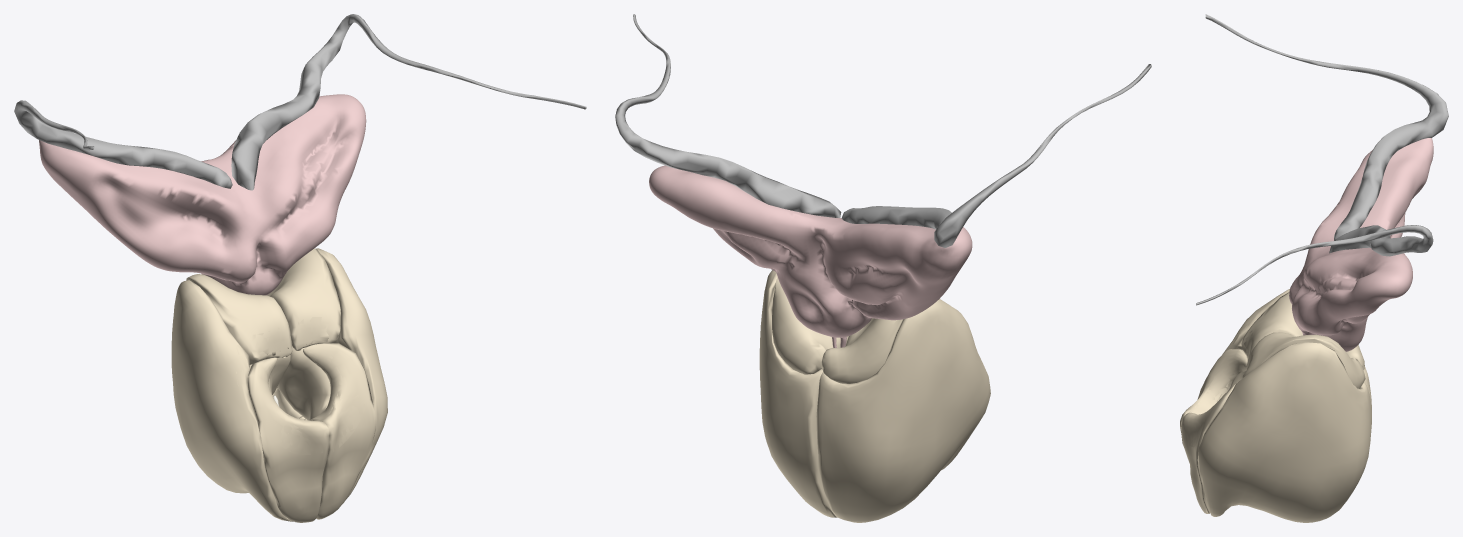
The model's file is vh_m_prostate-100.glb.
3 renders of one model, left to right at view 1: azimuth 30°, elevation 25°; view 2: azimuth 150°, elevation 25°; view 3: azimuth 270°, elevation 25°, orthographic. The views are drawn at different scales.
Parts seen in each view (by area): view 1: VH_M_seminal_vesicle, VH_M_peripheral_zone_of_prostate_R, VH_M_anterior_fibromuscular_stroma_R, VH_M_anterior_fibromuscular_stroma_L, VH_M_vas_deferens_R, VH_M_vas_deferens_L, VH_M_central_zone_of_prostate_L, VH_M_peripheral_zone_of_prostate_L, VH_M_central_zone_of_prostate_R, VH_M_base_of_prostate, VH_M_transition_zone__of_prostate_L; view 2: VH_M_peripheral_zone_of_prostate_R, VH_M_seminal_vesicle, VH_M_peripheral_zone_of_prostate_L, VH_M_vas_deferens_R, VH_M_vas_deferens_L, VH_M_central_zone_of_prostate_R, VH_M_central_zone_of_prostate_L; view 3: VH_M_peripheral_zone_of_prostate_L, VH_M_seminal_vesicle, VH_M_vas_deferens_L, VH_M_vas_deferens_R, VH_M_central_zone_of_prostate_L, VH_M_central_zone_of_prostate_R, VH_M_anterior_fibromuscular_stroma_L, VH_M_anterior_fibromuscular_stroma_R, VH_M_base_of_prostate, VH_M_peripheral_zone_of_prostate_R.
Boxes of the visible parts, x1,y1,x2,y2 form: VH_M_seminal_vesicle: (39,94,366,295); VH_M_peripheral_zone_of_prostate_R: (171,280,293,521); VH_M_anterior_fibromuscular_stroma_R: (248,357,329,522); VH_M_anterior_fibromuscular_stroma_L: (303,343,375,519); VH_M_vas_deferens_R: (231,14,586,190); VH_M_vas_deferens_L: (14,100,232,188); VH_M_central_zone_of_prostate_L: (267,248,340,387); VH_M_peripheral_zone_of_prostate_L: (272,248,387,499); VH_M_central_zone_of_prostate_R: (186,274,292,364); VH_M_base_of_prostate: (236,317,367,454); VH_M_transition_zone__of_prostate_L: (277,346,330,420); VH_M_peripheral_zone_of_prostate_R: (816,299,990,522); VH_M_seminal_vesicle: (649,165,972,337); VH_M_peripheral_zone_of_prostate_L: (759,270,837,517); VH_M_vas_deferens_R: (615,14,841,217); VH_M_vas_deferens_L: (841,64,1151,247); VH_M_central_zone_of_prostate_R: (821,318,902,383); VH_M_central_zone_of_prostate_L: (772,277,848,374); VH_M_peripheral_zone_of_prostate_L: (1197,342,1371,522); VH_M_seminal_vesicle: (1289,138,1433,351); VH_M_vas_deferens_L: (1205,14,1448,240); VH_M_vas_deferens_R: (1196,225,1433,305); VH_M_central_zone_of_prostate_L: (1241,332,1365,388); VH_M_central_zone_of_prostate_R: (1241,292,1364,369); VH_M_anterior_fibromuscular_stroma_L: (1181,379,1240,513); VH_M_anterior_fibromuscular_stroma_R: (1180,349,1247,443); VH_M_base_of_prostate: (1182,325,1253,447); VH_M_peripheral_zone_of_prostate_R: (1200,289,1371,409).
Bounding box in the file's own units: 0.083 × 0.0706 × 0.0428.
